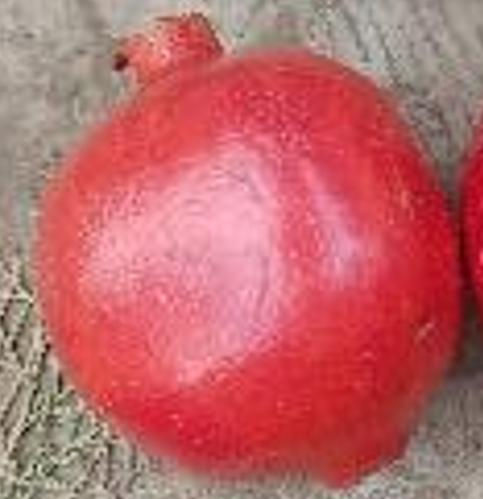pomegranate_A: (32, 12, 466, 490)
